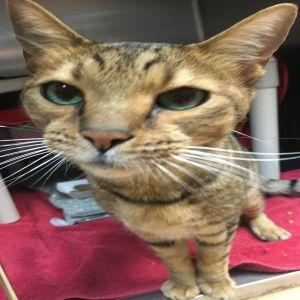bengal: (1, 1, 297, 187)
